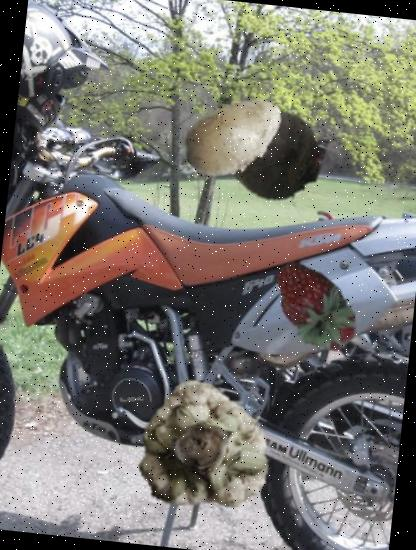Beetroot: (180, 73, 334, 226)
Cauliflower: (130, 382, 281, 532)
Potato: (176, 78, 290, 193)
Strawberry: (256, 252, 369, 365)
